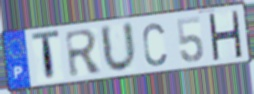5: (175, 15, 205, 64)
C: (141, 21, 169, 69)
H: (206, 10, 244, 61)
R: (63, 27, 105, 79)
T: (30, 29, 61, 84)
U: (98, 20, 139, 75)
